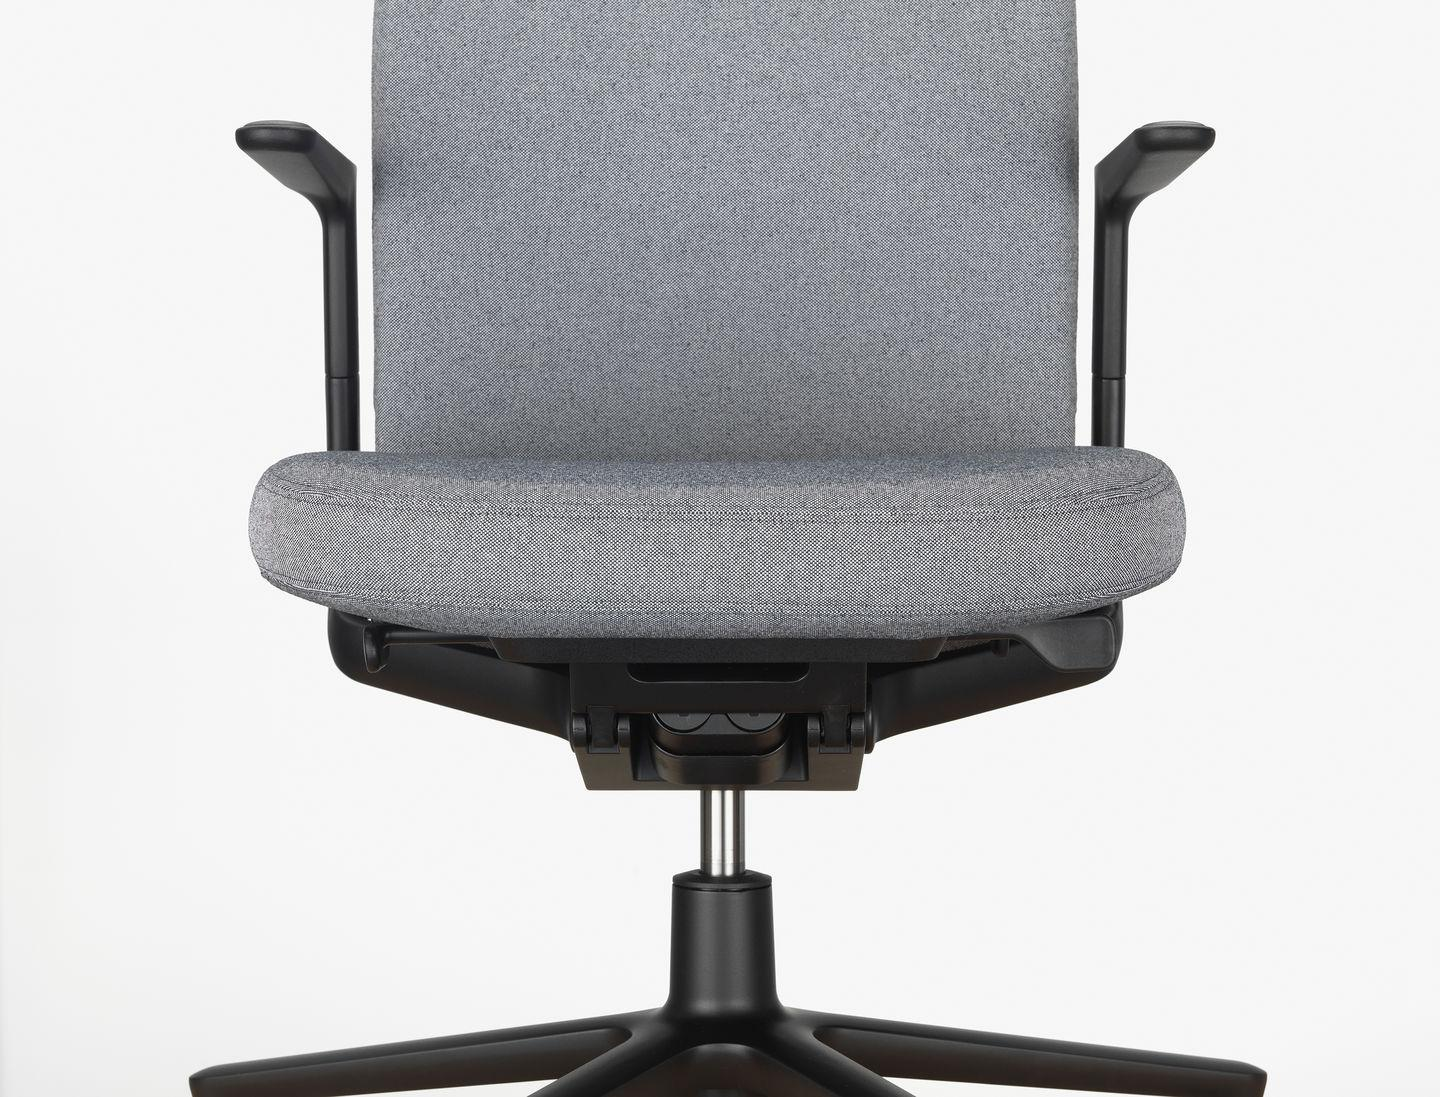chair: (194, 9, 1296, 1097)
